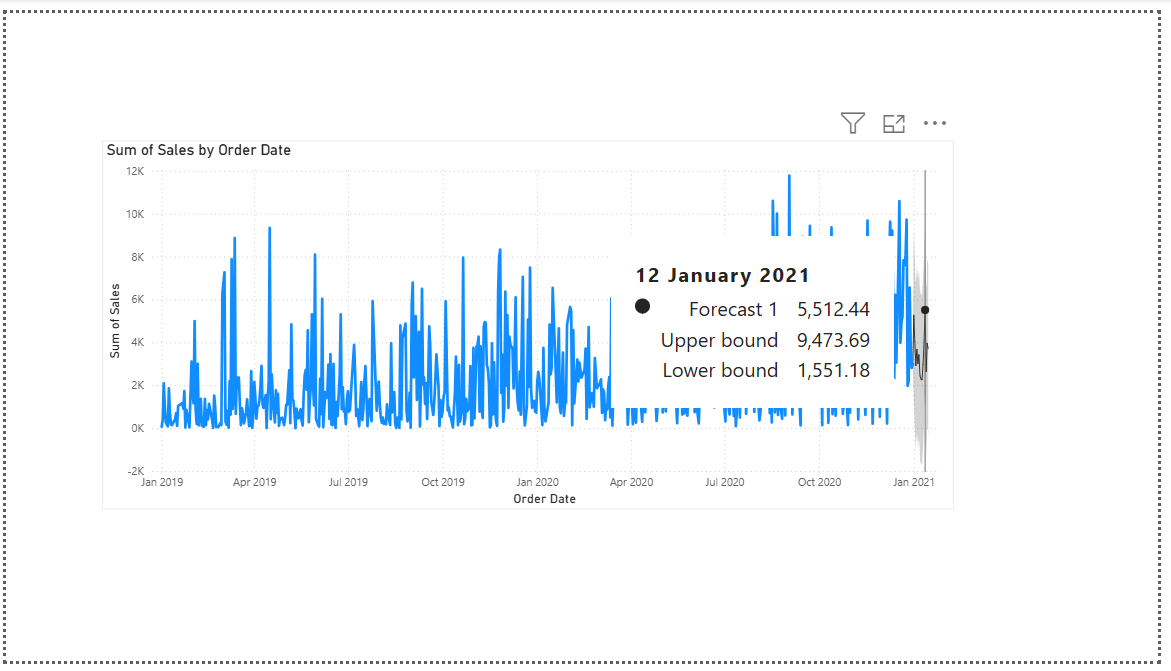

The page's visual inventory and layout, read from the dashboard file:
{"tool":"powerbi","page":{"name":"Page 2","canvas":[1280,720],"ordinal":1},"visuals":[{"type":"lineChart","fields":{"Y":["Sum(SuperStore_Sales_Dataset.Sales)"],"Category":["SuperStore_Sales_Dataset.Order Date"]},"box":[106.7,141.7,946.7,410],"z":0}]}

Visuals, with their boxes in screenshot pixels (x1, y1, x2, y2), scaled from the page's 1280x720 canvas onto the 1171x671 screenshot:
lineChart - Sum(SuperStore_Sales_Dataset.Sales) x SuperStore_Sales_Dataset.Order Date: bbox(98, 132, 964, 514)
